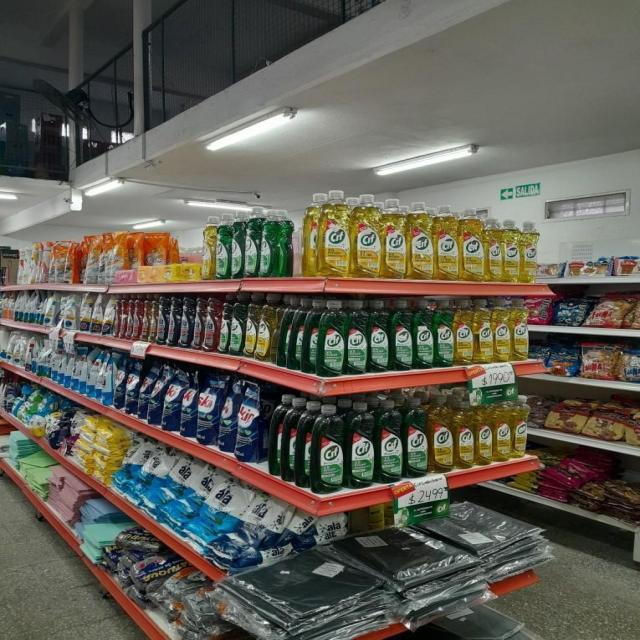ala_conc_amarillo: (149, 295, 156, 344)
ala_conc_azul: (179, 295, 191, 349), (167, 296, 178, 347), (158, 296, 166, 345)
ala_conc_rojo: (204, 296, 218, 352), (192, 296, 203, 350), (118, 294, 127, 340), (131, 295, 140, 341), (141, 295, 148, 342)
cif_conc_bot_amarilla: (317, 189, 350, 278), (352, 193, 381, 279), (382, 198, 408, 280), (408, 200, 434, 280), (428, 395, 453, 473), (434, 203, 459, 281), (460, 205, 484, 282), (454, 399, 474, 469), (258, 294, 278, 362), (454, 298, 473, 366), (473, 298, 492, 364), (475, 398, 492, 466), (511, 298, 529, 362), (485, 215, 502, 282), (493, 298, 510, 362), (494, 399, 511, 462), (520, 220, 537, 283), (512, 397, 529, 459), (503, 218, 519, 283), (244, 292, 257, 359)
cif_conc_botella_verde: (310, 402, 344, 493), (346, 400, 374, 488), (376, 398, 402, 483), (318, 298, 345, 376), (403, 396, 428, 478), (390, 298, 412, 372), (346, 299, 367, 375), (368, 299, 389, 373), (260, 206, 280, 278), (414, 298, 434, 369), (434, 298, 454, 368), (244, 208, 260, 278), (304, 297, 318, 375), (215, 213, 230, 280), (231, 210, 244, 279), (230, 294, 244, 356), (218, 294, 230, 354)
